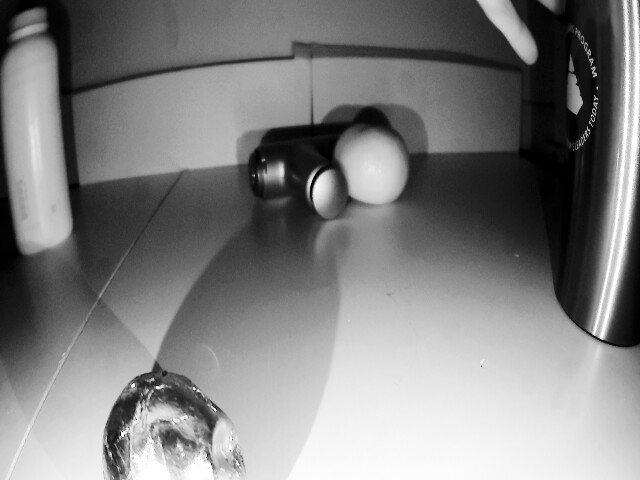black: (109, 359, 259, 480)
